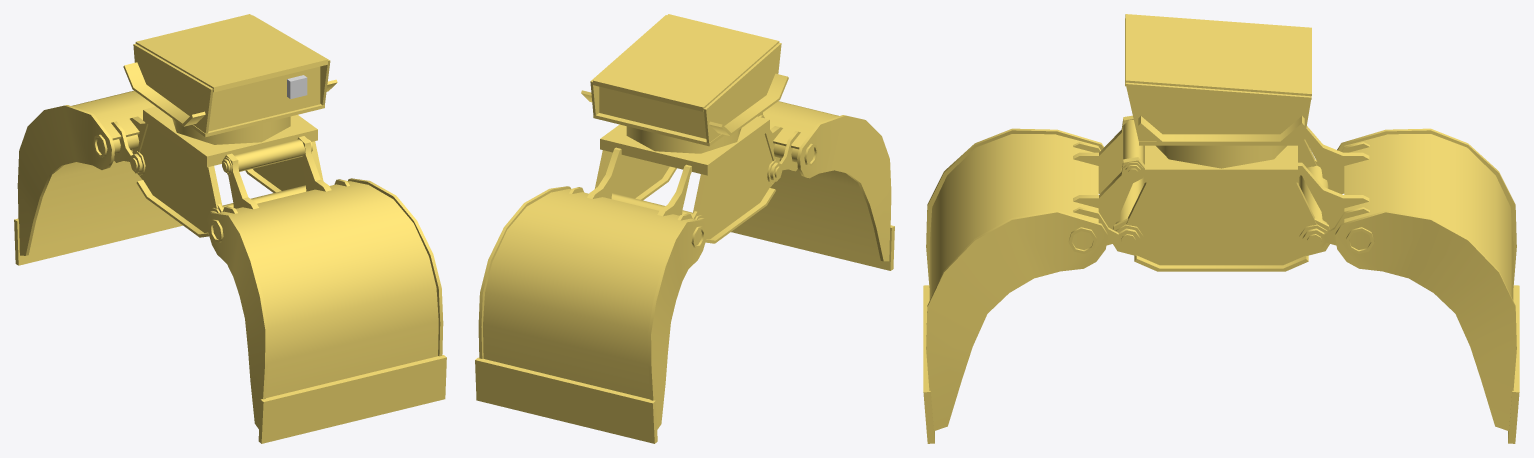
The picture shows the model from 3 angles, left to right: view 1: azimuth 30°, elevation 25°; view 2: azimuth 150°, elevation 25°; view 3: azimuth 270°, elevation 25°; orthographic projection. The views are drawn at different scales.
Visible parts, largest first — view 1: MG_400; view 2: MG_400; view 3: MG_400.
Part boxes in pixels (x1,y1,x2,y2): MG_400: (14, 14, 446, 443); MG_400: (475, 14, 894, 443); MG_400: (923, 14, 1519, 443).
Bounding box in the file's own units: 63.77 × 95.29 × 150.
